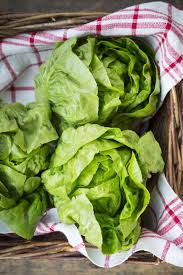lettuce: (15, 45, 152, 241)
